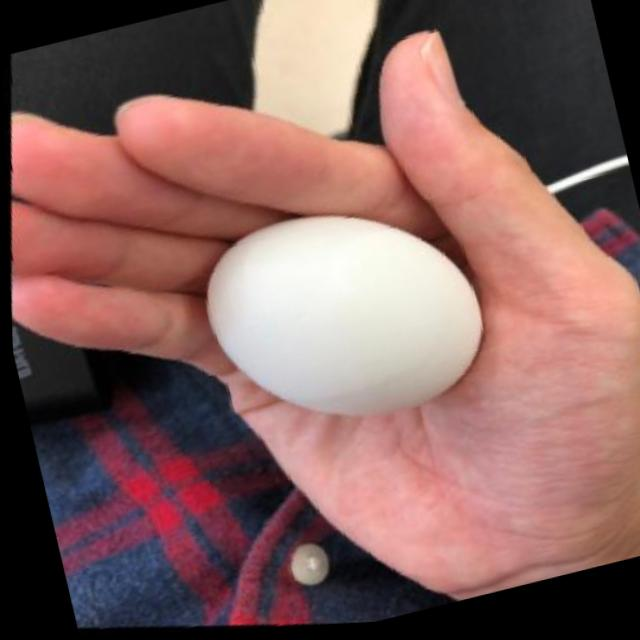egg: (182, 177, 501, 457)
